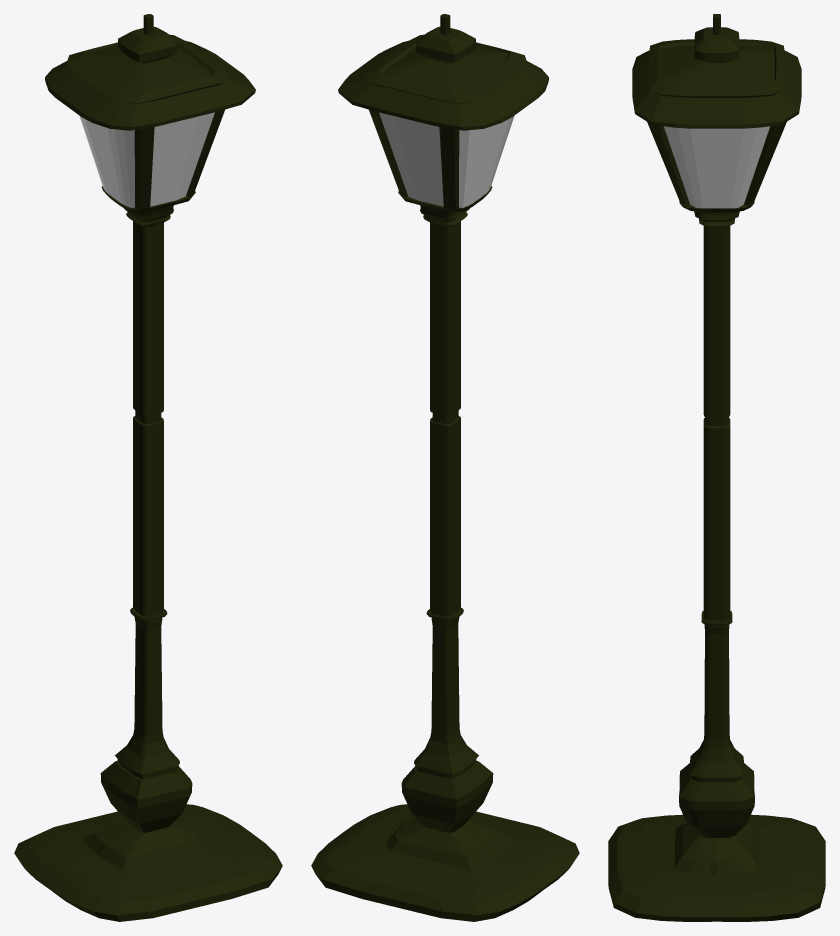
File: farola.fbx
3 renders of one model, left to right at view 1: azimuth 30°, elevation 25°; view 2: azimuth 150°, elevation 25°; view 3: azimuth 270°, elevation 25°, orthographic.
Parts seen in each view (by area): view 1: lightpole; view 2: lightpole; view 3: lightpole.
Boxes of the visible parts, x1=… form: lightpole: x1=14, y1=14, x2=282, y2=921; lightpole: x1=311, y1=14, x2=579, y2=921; lightpole: x1=608, y1=14, x2=825, y2=921.
Size of the model in its own units: 253 by 993 by 228.
